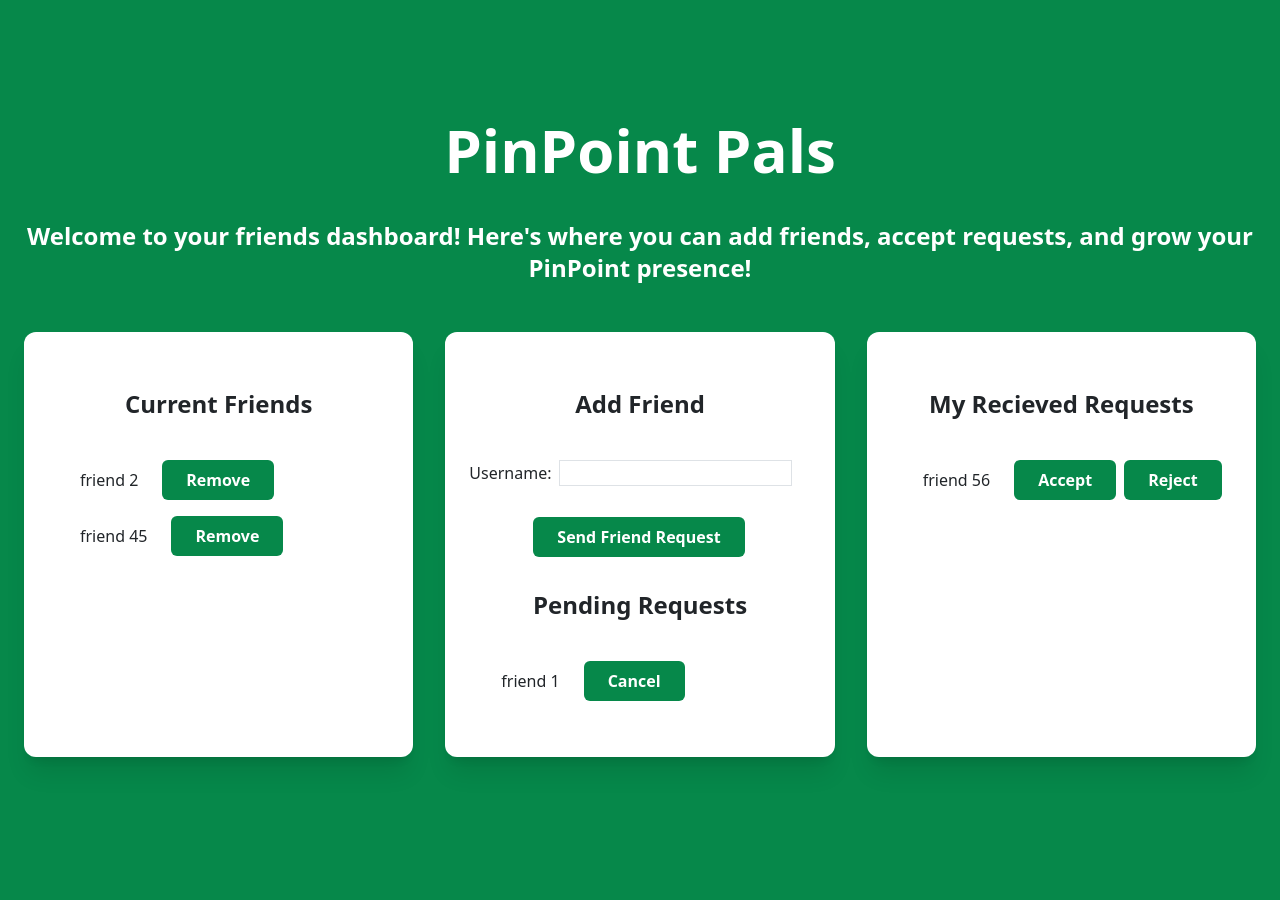
Test: Friends › Accept incoming friend request
Click the button "Accept": (1065, 480) [1014,460,1116,500]
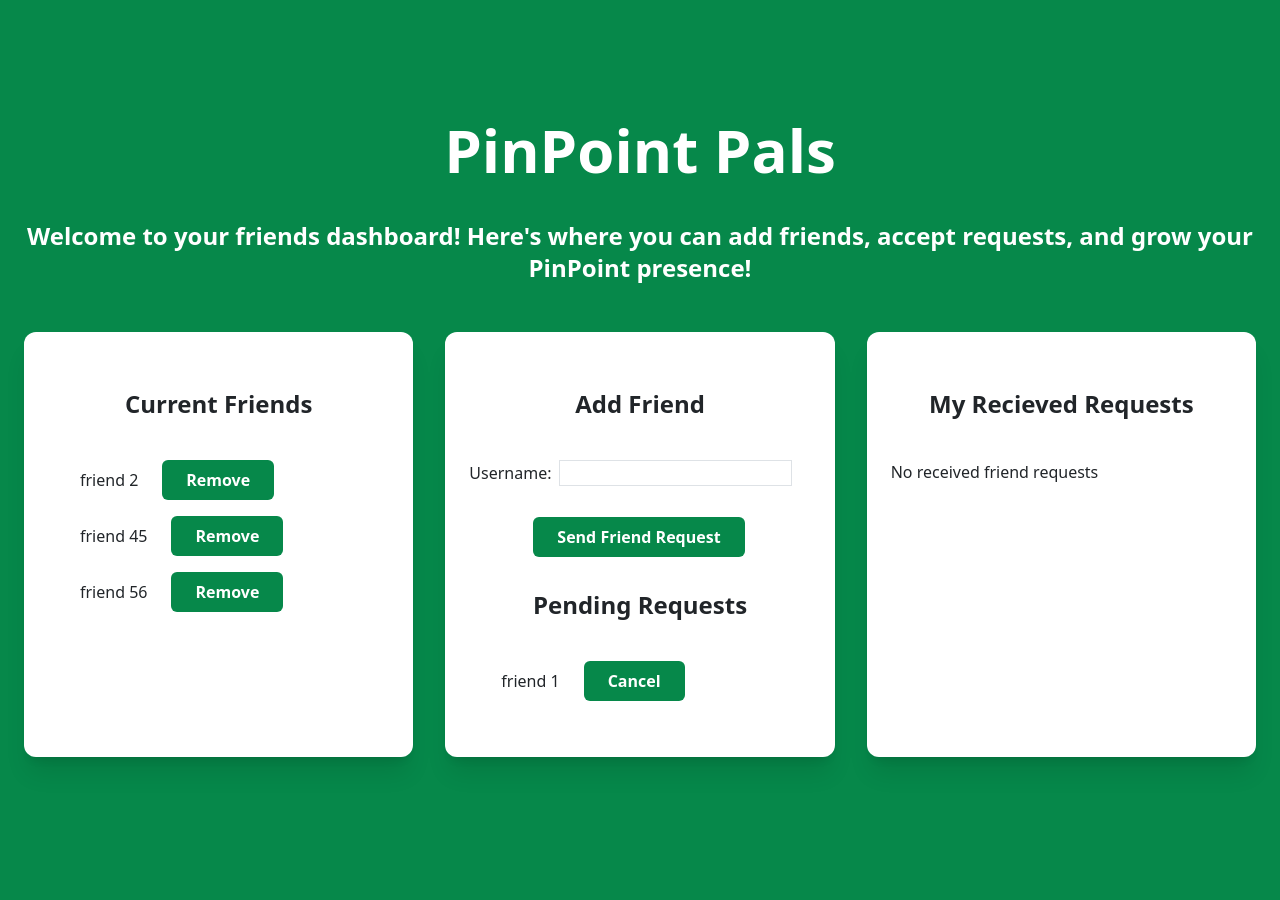
Expected: the text "friend 56" is shown, [80,580,148,604]
Result: the number of buttons "Remove" is 3 at [162,460,274,500]; [172,516,283,556]; [172,572,283,612]
